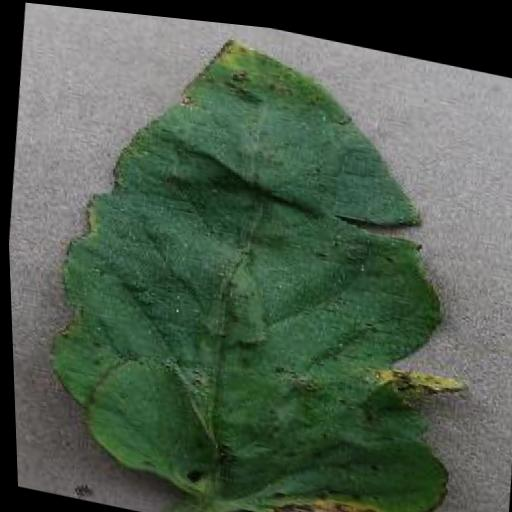Bacterial Spot: (15, 1, 507, 512)
